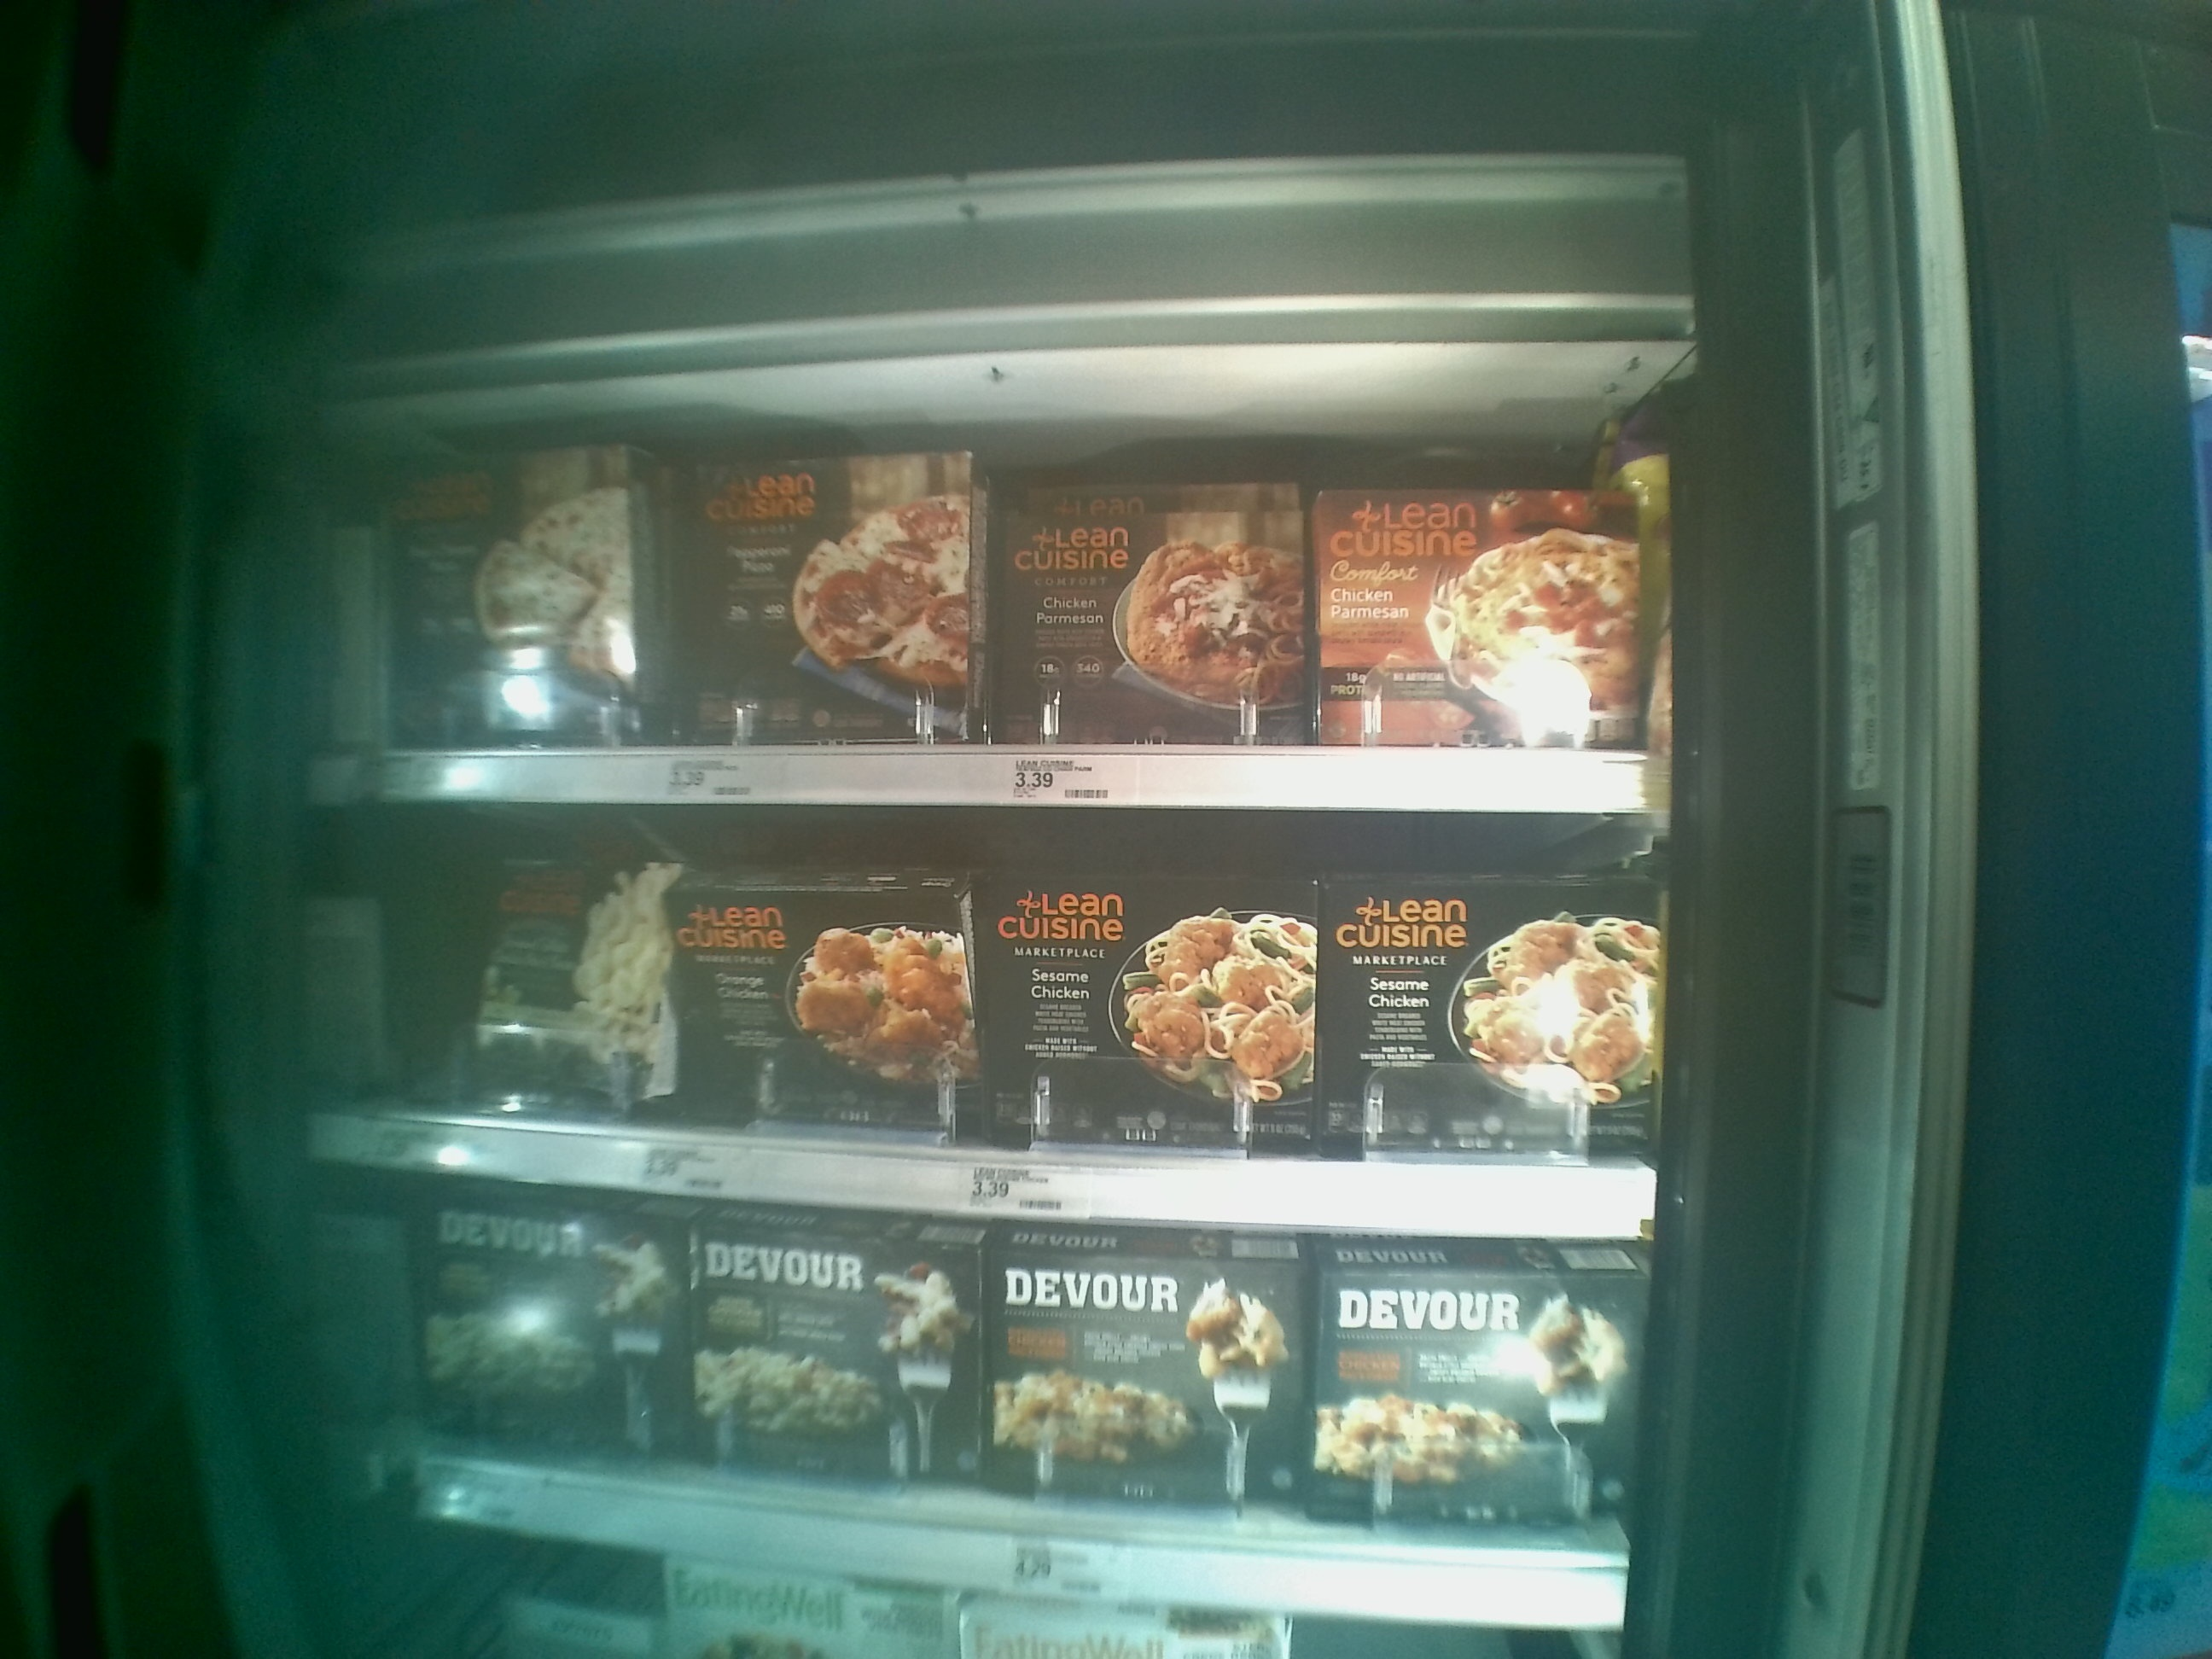shelf: (307, 1162, 1641, 1638), (319, 373, 1651, 817), (314, 807, 1662, 1241)
